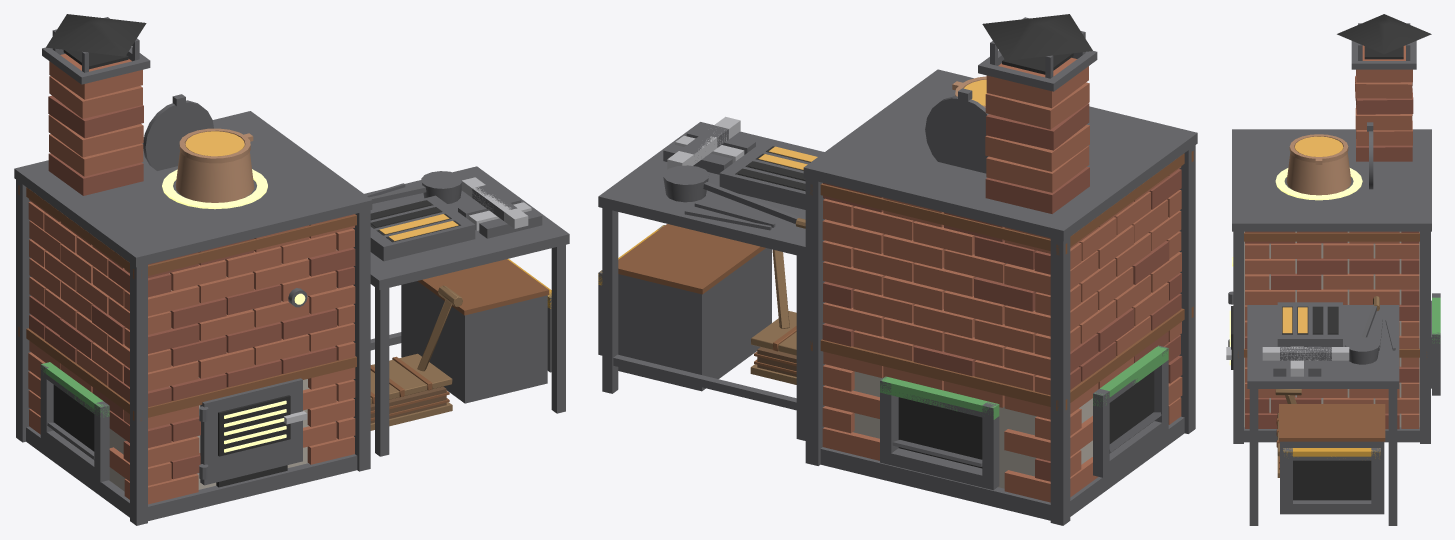
Rendered from feFoundry.fbx.
The picture shows the model from 3 angles, left to right: view 1: azimuth 30°, elevation 25°; view 2: azimuth 150°, elevation 25°; view 3: azimuth 270°, elevation 25°; orthographic projection. The views are drawn at different scales.
Parts seen in each view (by area): view 1: feFoundry_Base, feFoundry_BellowsTop; view 2: feFoundry_Base, feFoundry_BellowsTop; view 3: feFoundry_Base, feFoundry_BellowsTop.
Boxes of the visible parts, box(x1,y1,x2,y2) form: feFoundry_Base: box(14, 14, 569, 525); feFoundry_BellowsTop: box(370, 285, 462, 403); feFoundry_Base: box(598, 14, 1197, 525); feFoundry_BellowsTop: box(751, 249, 796, 355); feFoundry_Base: box(1226, 14, 1440, 525); feFoundry_BellowsTop: box(1275, 389, 1301, 456).
Size of the model in its own units: 2 by 1.77 by 0.988.
